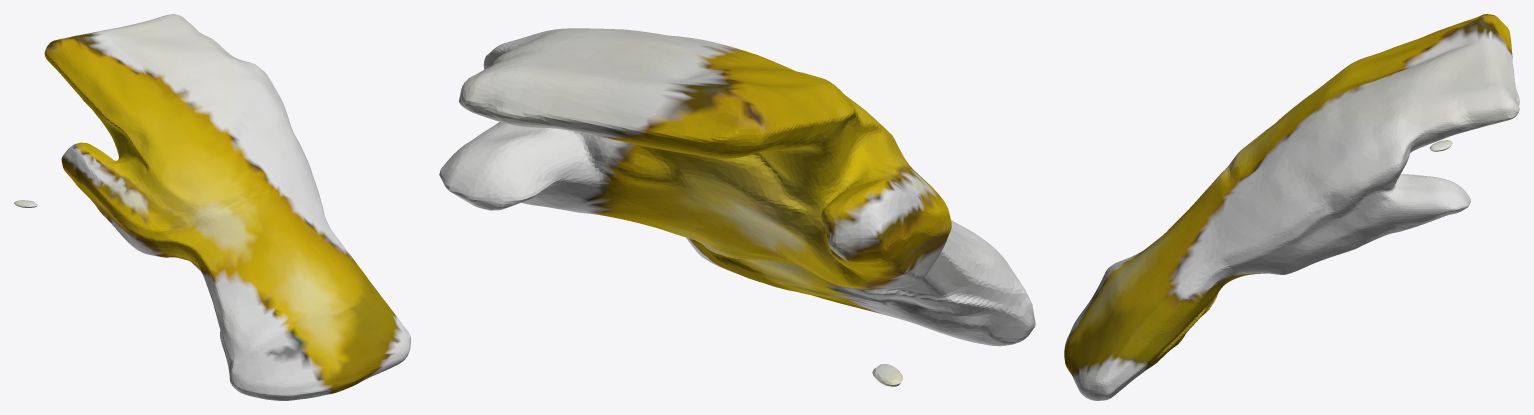
The model's file is god_finger.glb.
3 renders of one model, left to right at view 1: azimuth 30°, elevation 25°; view 2: azimuth 150°, elevation 25°; view 3: azimuth 270°, elevation 25°, orthographic. The views are drawn at different scales.
Visible parts, largest first — view 1: geometry_0; view 2: geometry_0; view 3: geometry_0.
Part boxes in pixels (x1,y1,x2,y2): geometry_0: (14, 14, 410, 400); geometry_0: (439, 28, 1035, 386); geometry_0: (1064, 14, 1519, 400).
Bounding box in the file's own units: 0.7188 × 0.6925 × 0.9612.
